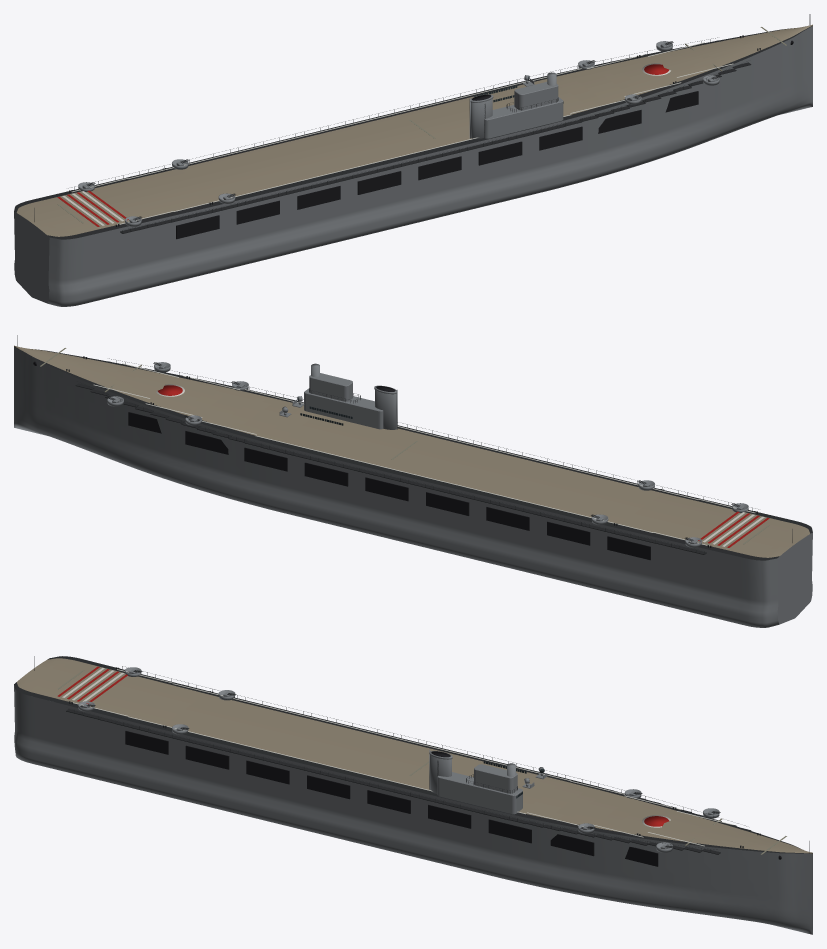
File: shokaku.glb
3 views of the same model, one above another, from view 1: azimuth 30°, elevation 25°; view 2: azimuth 150°, elevation 25°; view 3: azimuth 330°, elevation 25° (orthographic).
Parts seen in each view (by area): view 1: shokaku; view 2: shokaku; view 3: shokaku.
Part boxes in pixels (box(x1,y1,x2,y2)): shokaku: box(14, 14, 812, 306); shokaku: box(14, 335, 812, 627); shokaku: box(14, 656, 812, 934).
Size of the model in its own units: 258 by 36.5 by 32.39.
